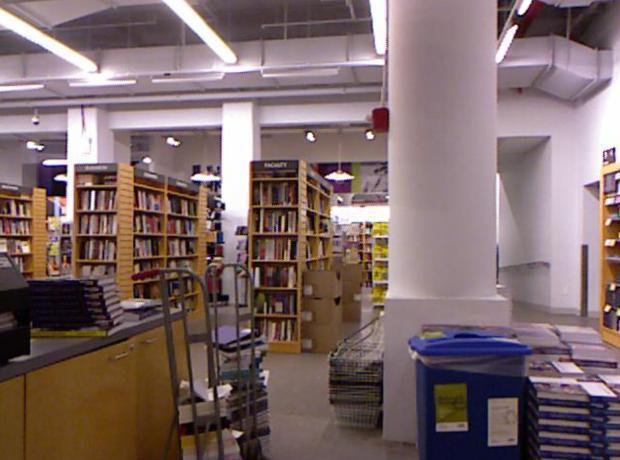Bote de Basura: (404, 328, 527, 455)
